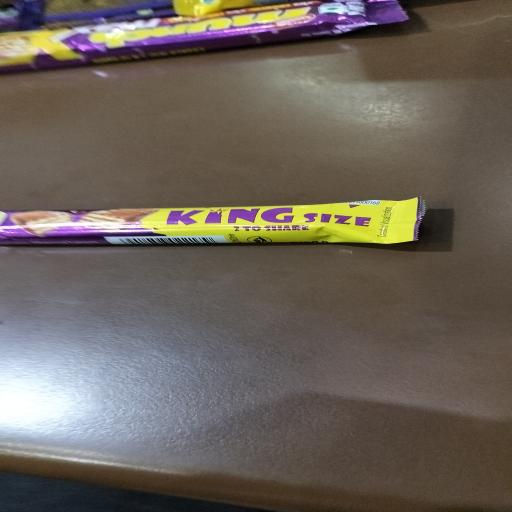chocolate: (0, 0, 409, 67), (0, 206, 424, 247)
munch: (70, 9, 320, 46)
